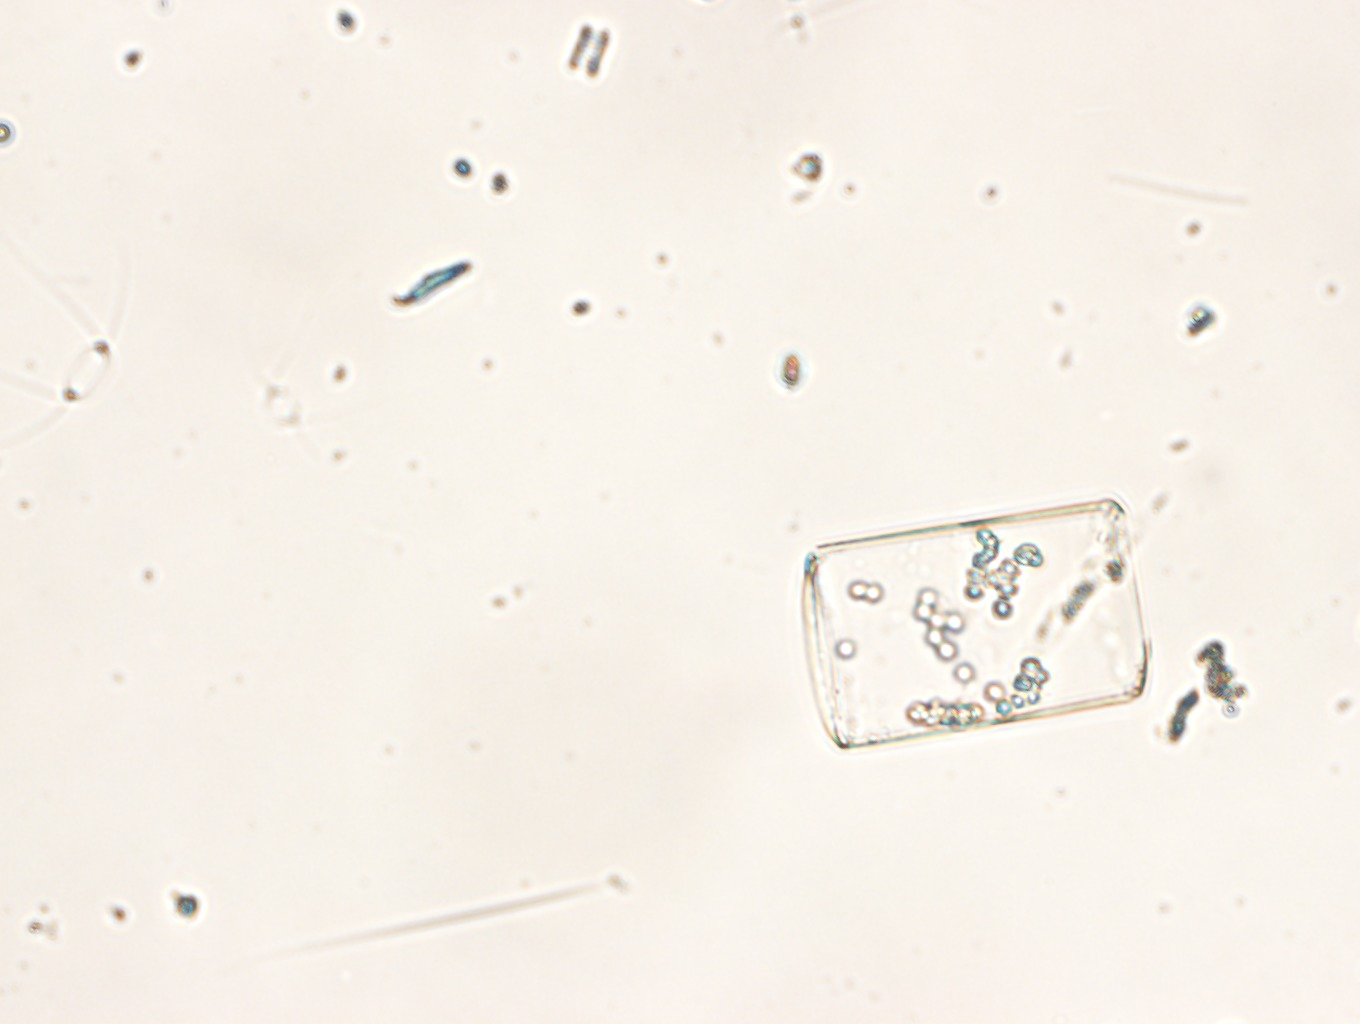guinardia flaccida: (802, 497, 1149, 751)
